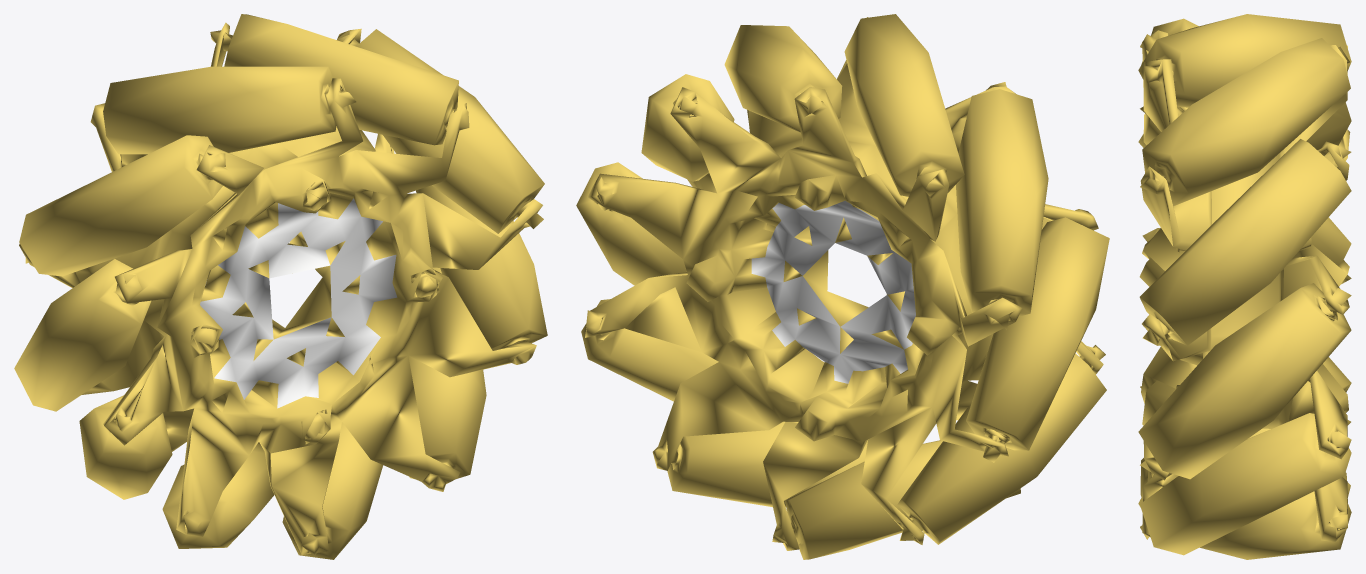
File: gobilda mec left dec.fbx
The picture shows the model from 3 angles, left to right: view 1: azimuth 30°, elevation 25°; view 2: azimuth 150°, elevation 25°; view 3: azimuth 270°, elevation 25°; orthographic projection.
Parts seen in each view (by area): view 1: Body1; view 2: Body1; view 3: Body1.
Part boxes in pixels (x1=…): Body1: x1=14, y1=14, x2=547, y2=559; Body1: x1=576, y1=14, x2=1109, y2=559; Body1: x1=1138, y1=14, x2=1351, y2=559.
Size of the model in its own units: 9.77 by 9.7 by 3.78.
